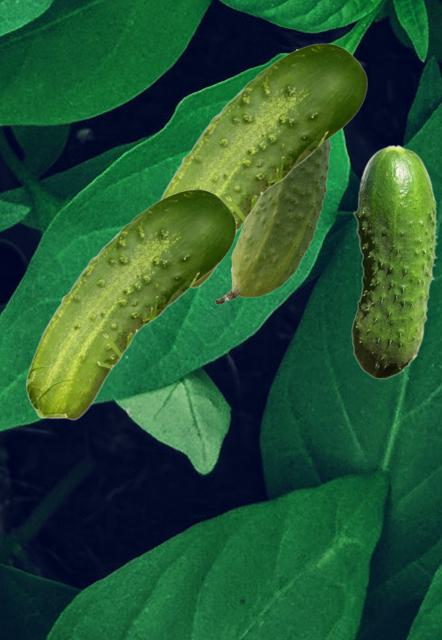cucumber: (160, 43, 366, 287), (25, 189, 235, 419), (215, 49, 331, 303), (351, 144, 437, 378)
